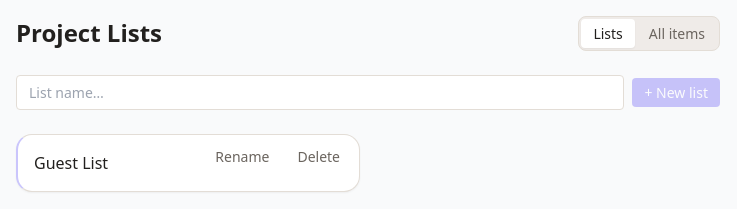
Scenario: ProjectView › clicking delete once shows a confirm state (two-step delete)
Step 1. Click the button with test id "delete-list-l1" → [319, 156], box [285, 142, 352, 171]
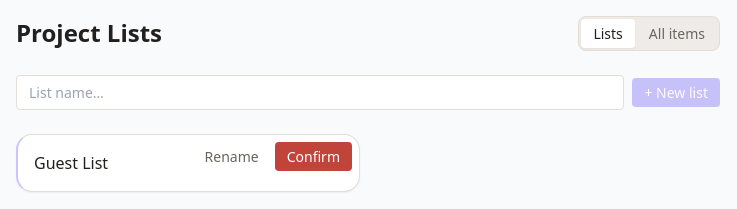
expect the button with test id "delete-list-l1" reads "Confirm": met, box [275, 142, 352, 171]
